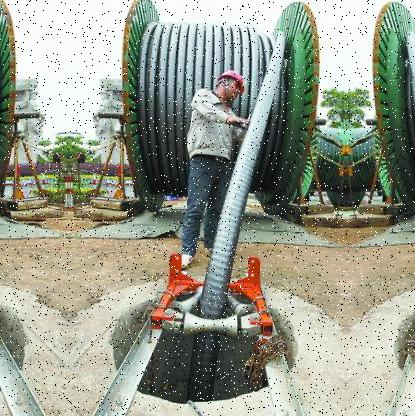helmet: (215, 64, 251, 102)
